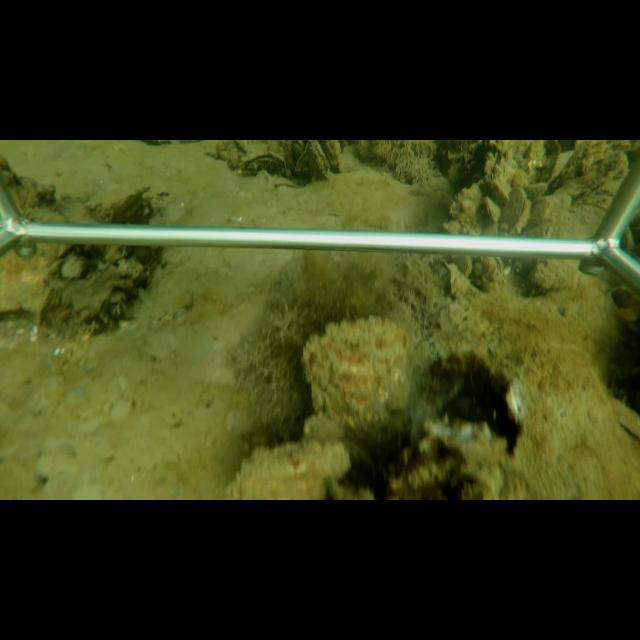Oyster-Closed: (301, 312, 409, 441), (496, 185, 532, 236), (313, 142, 332, 179), (482, 194, 503, 226), (294, 141, 313, 176)
Oyster-Open: (234, 151, 291, 177)
